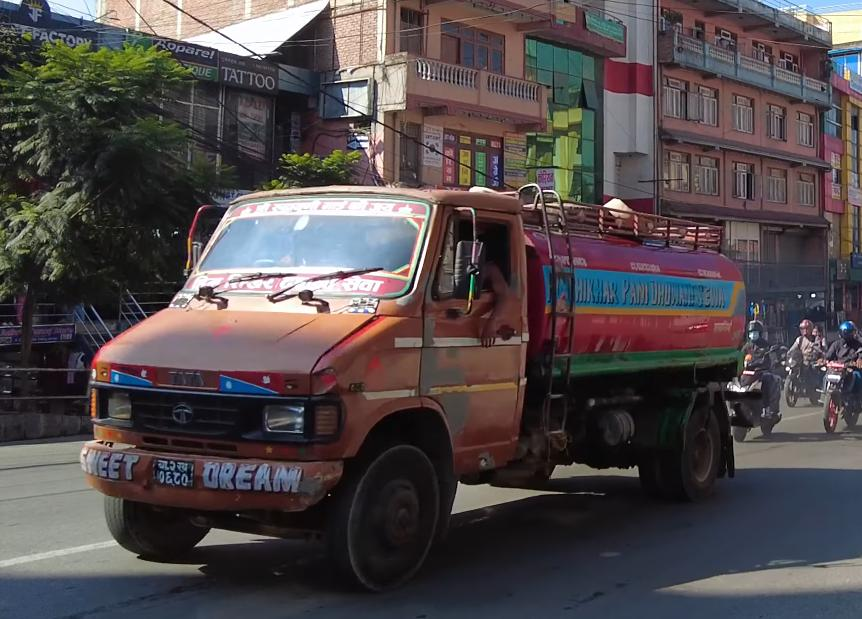bike: (815, 326, 862, 441), (786, 322, 824, 415)
mini_truck: (75, 153, 780, 592)
scooter: (717, 309, 788, 443)
